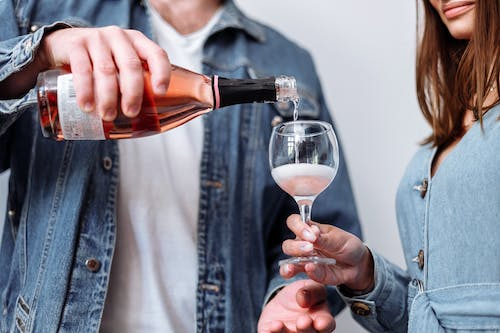alcohol: (36, 59, 297, 141), (268, 120, 340, 265)
